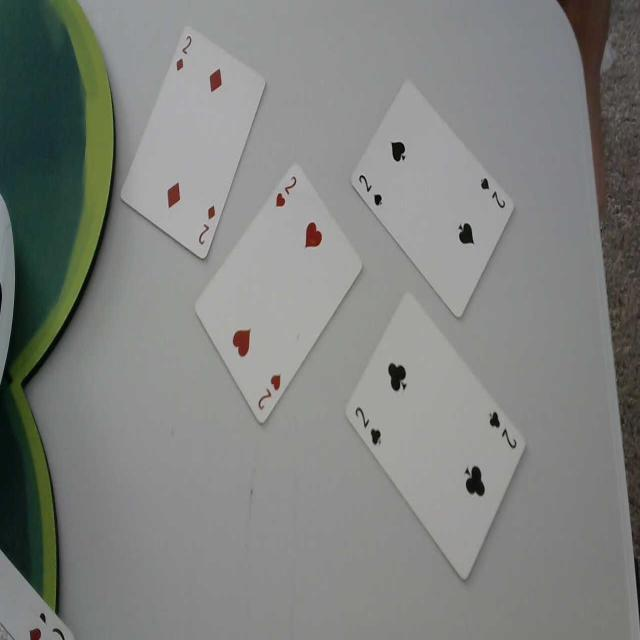2C: (487, 405, 518, 451), (353, 401, 382, 448)
2D: (198, 201, 216, 249), (174, 32, 193, 75)
2H: (274, 170, 299, 210), (258, 372, 280, 415)
2S: (478, 174, 507, 211), (357, 171, 385, 209)
